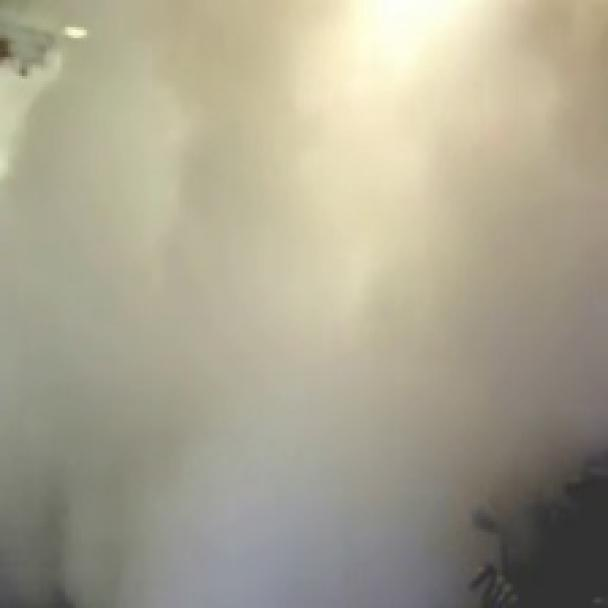smoke: (3, 3, 605, 605)
